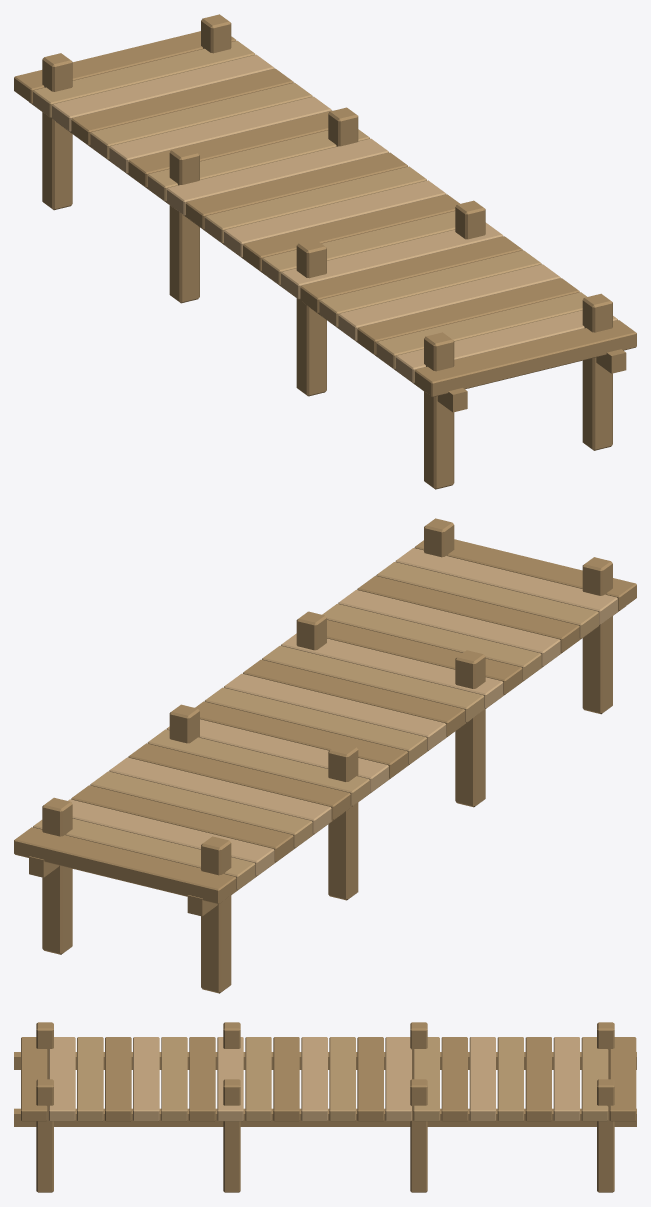
The model's file is Pier_10m.fbx.
3 views of the same model, one above another, from view 1: azimuth 30°, elevation 25°; view 2: azimuth 150°, elevation 25°; view 3: azimuth 270°, elevation 25° (orthographic). The views are drawn at different scales.
Parts seen in each view (by area): view 1: Pier_10m; view 2: Pier_10m; view 3: Pier_10m.
Boxes of the visible parts, left/top/right/bottom form: Pier_10m: left=14, top=14, right=636, bottom=489; Pier_10m: left=14, top=518, right=636, bottom=993; Pier_10m: left=14, top=1022, right=636, bottom=1192.
Size of the model in its own units: 280 by 190 by 1000.
